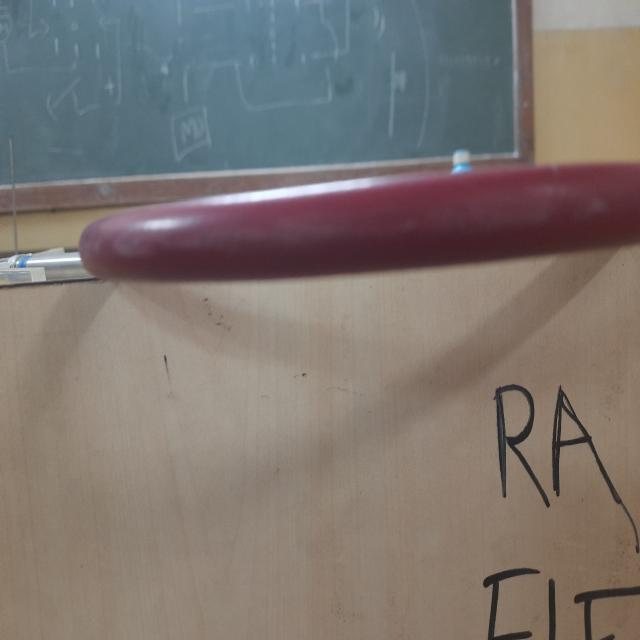daire: (90, 169, 640, 284)
